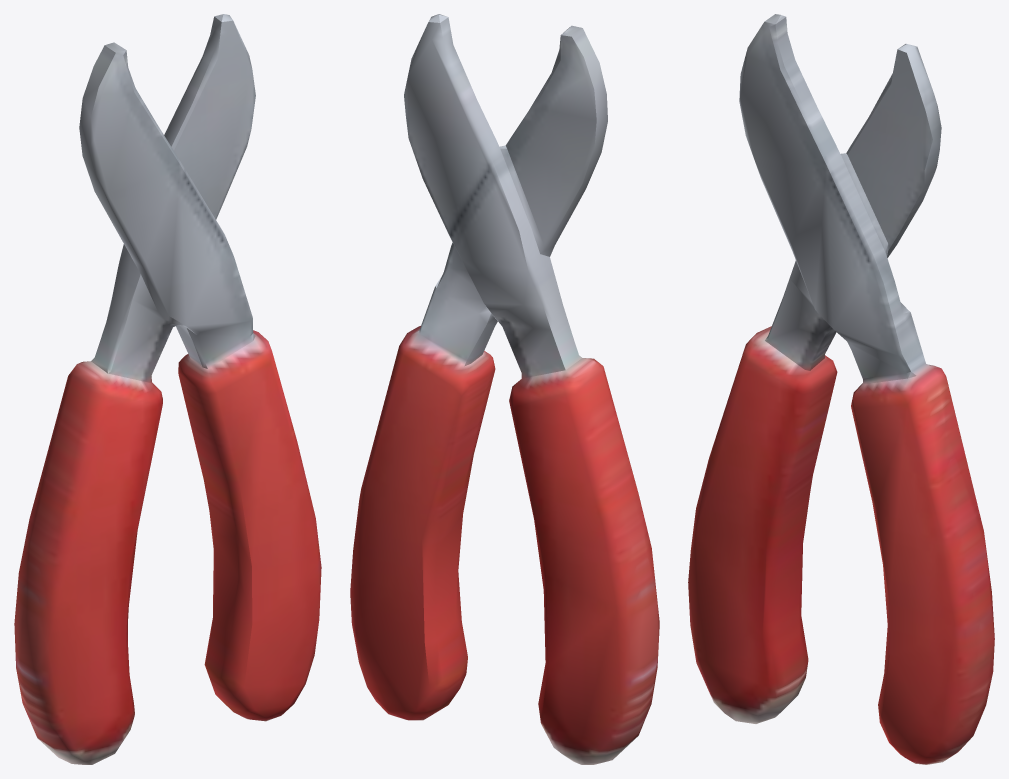
3 views of the same model, side by side, from view 1: azimuth 30°, elevation 25°; view 2: azimuth 150°, elevation 25°; view 3: azimuth 330°, elevation 25° (orthographic).
Visible parts, largest first — view 1: secateurs; view 2: secateurs; view 3: secateurs.
Boxes of the visible parts, box(x1,y1,x2,y2) form: secateurs: box(14, 14, 321, 764); secateurs: box(350, 14, 659, 764); secateurs: box(688, 14, 994, 764).
Bounding box in the file's own units: 0.0927 × 0.2199 × 0.0205.
Materials: 1 (1 with a texture image).
